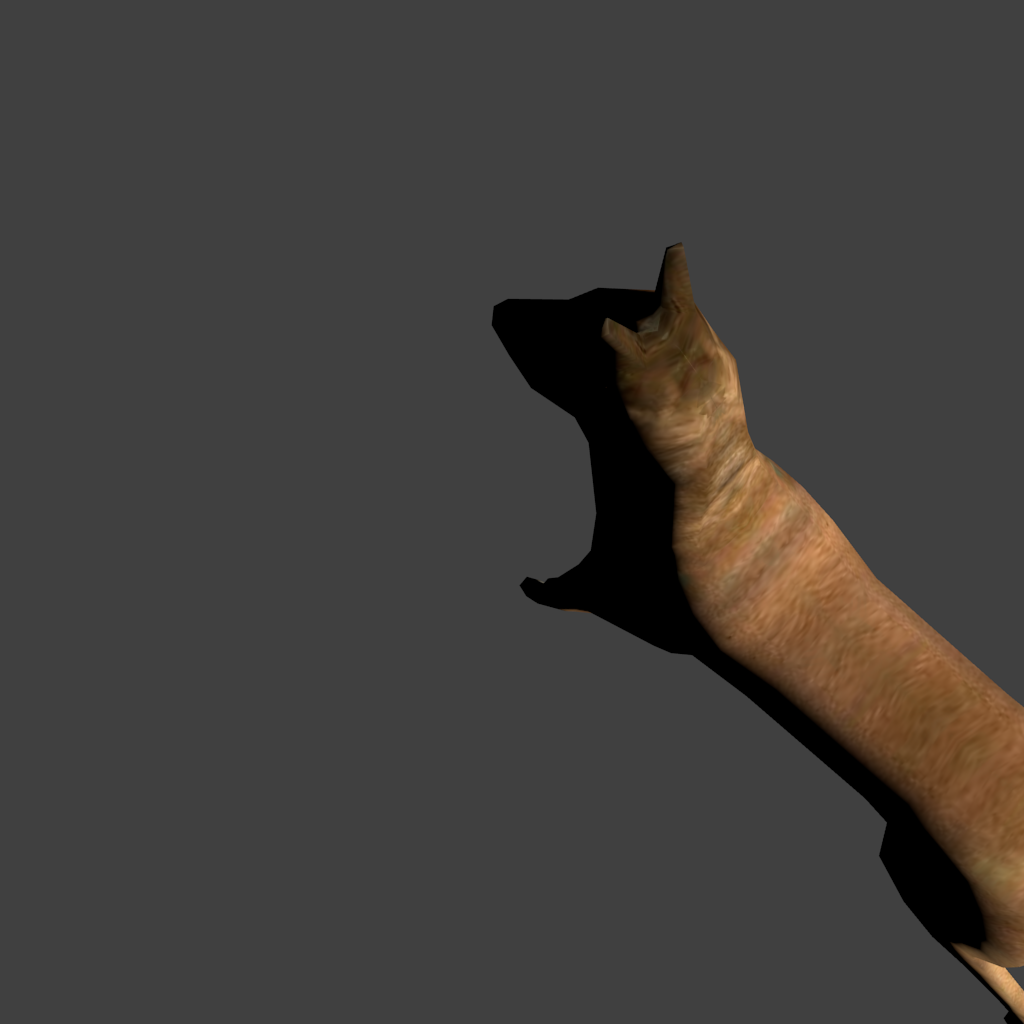Dog: (492, 242, 532, 782)
